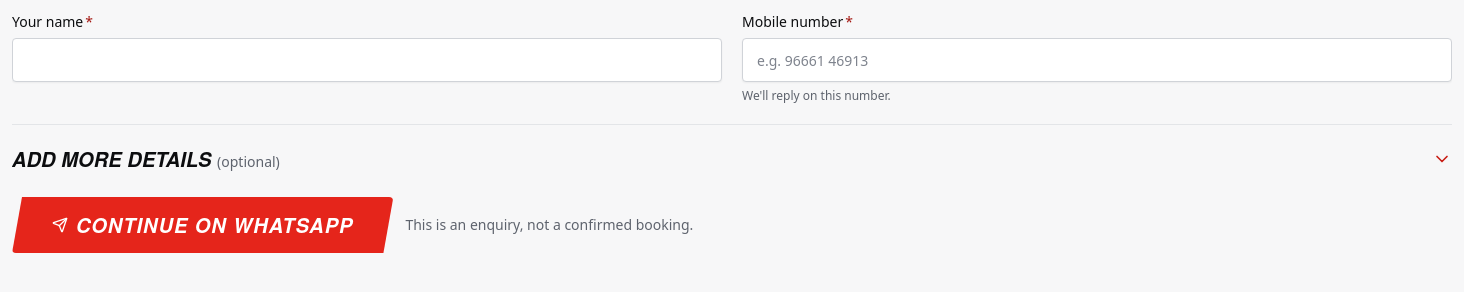
Scenario: EnquiryForm: validation › rejects an invalid mobile number and marks the field invalid for assistive tech
The width and height of the screenshot is (1464, 292).
In the field labelled "Your name*": (367, 60) left=12, top=38, right=722, bottom=82, type "Asha"
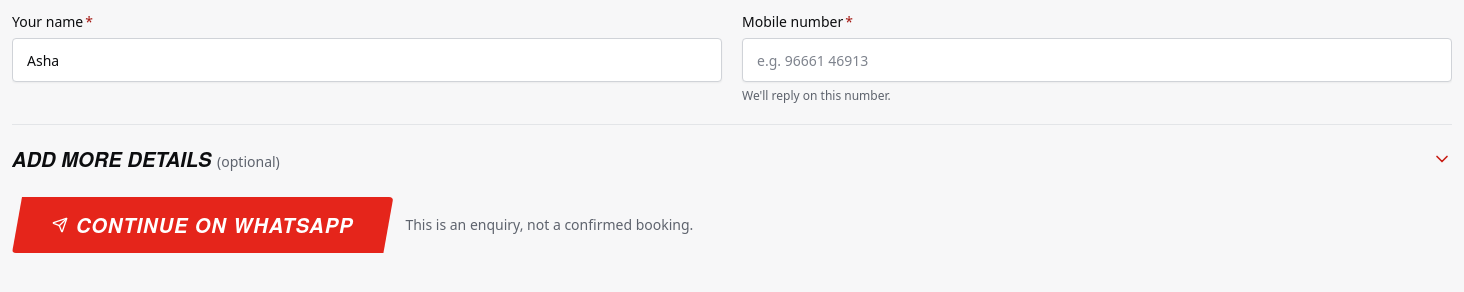
In the field labelled "Mobile number*": (1097, 60) left=742, top=38, right=1452, bottom=82, type "12345"
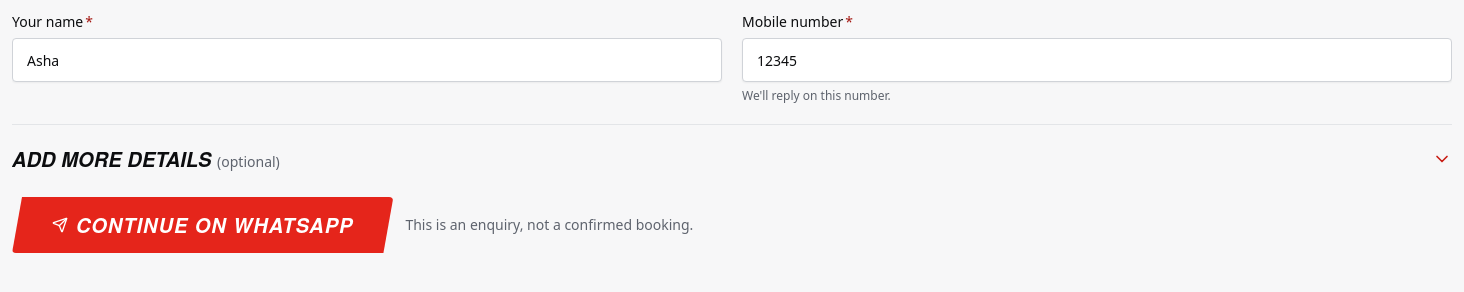
Click the button "Continue on WhatsApp": (203, 225) left=12, top=197, right=393, bottom=253
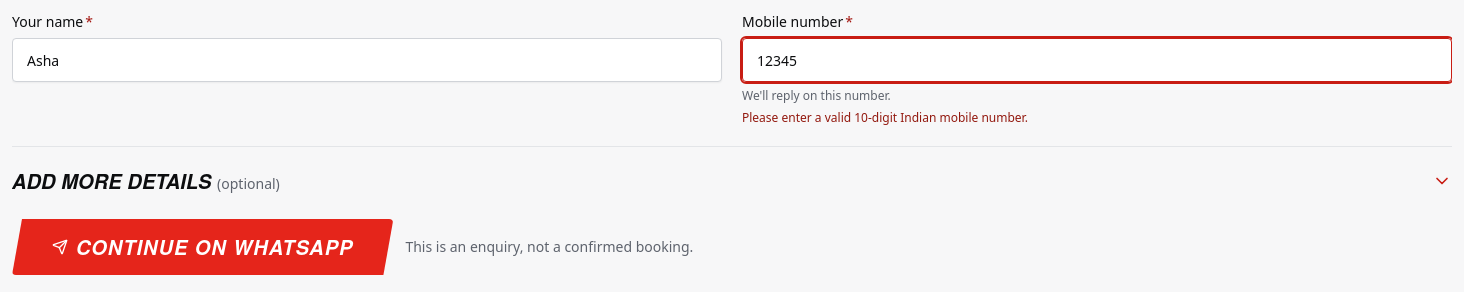
Expected: the text "Please enter a valid 10-digit Indian mobile number." is shown, left=742, top=109, right=1028, bottom=126
